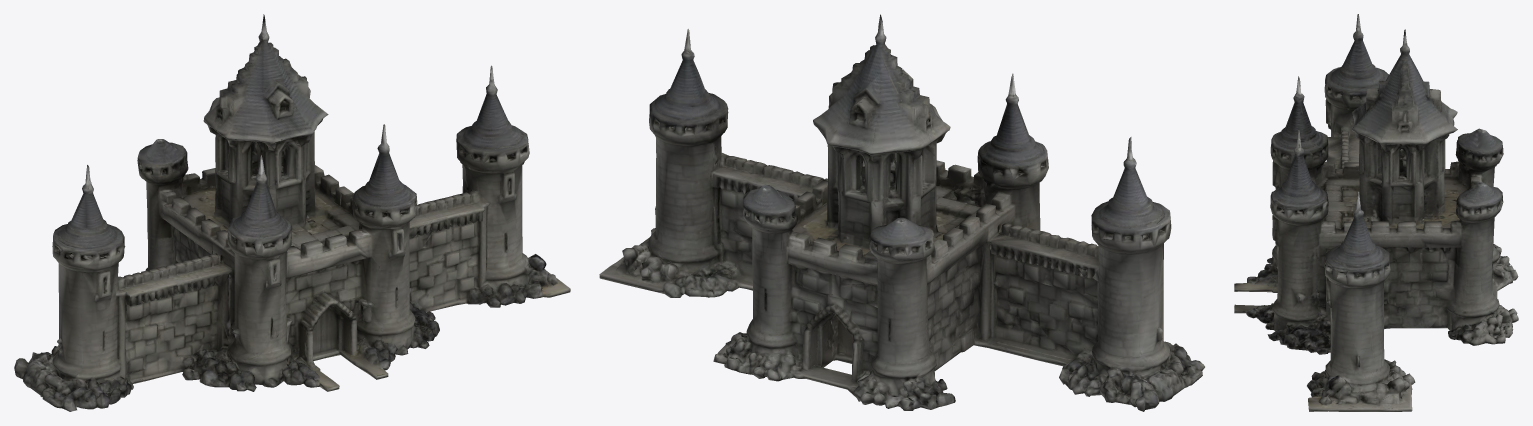
The model's file is castle-keep.glb.
The picture shows the model from 3 angles, left to right: view 1: azimuth 30°, elevation 25°; view 2: azimuth 150°, elevation 25°; view 3: azimuth 270°, elevation 25°; orthographic projection. The views are drawn at different scales.
Visible parts, largest first — view 1: Mesh1.0; view 2: Mesh1.0; view 3: Mesh1.0.
Boxes of the visible parts, x1,y1,x2,y2 form: Mesh1.0: (14,14,570,411); Mesh1.0: (599,14,1204,411); Mesh1.0: (1234,14,1518,411).
Bounding box in the file's own units: 1.9 × 1.08 × 1.02.
1 material, 1 textured.
